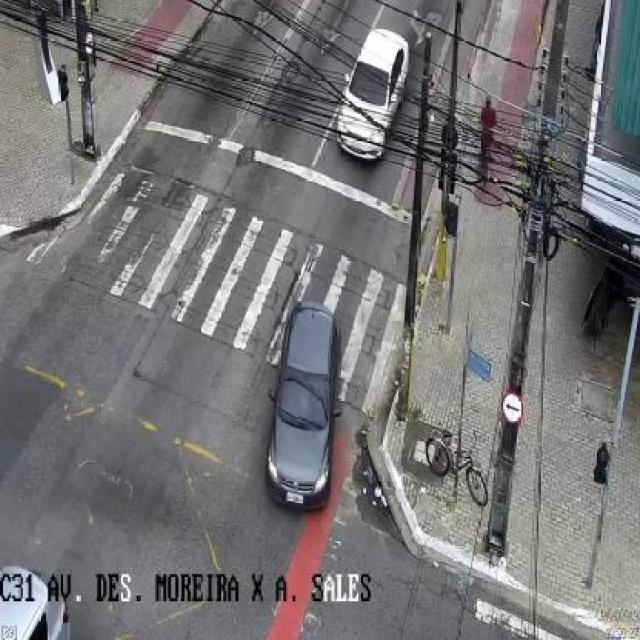Car: (266, 302, 344, 508), (332, 27, 410, 162), (0, 562, 68, 640)
Cycle: (424, 429, 491, 505)
